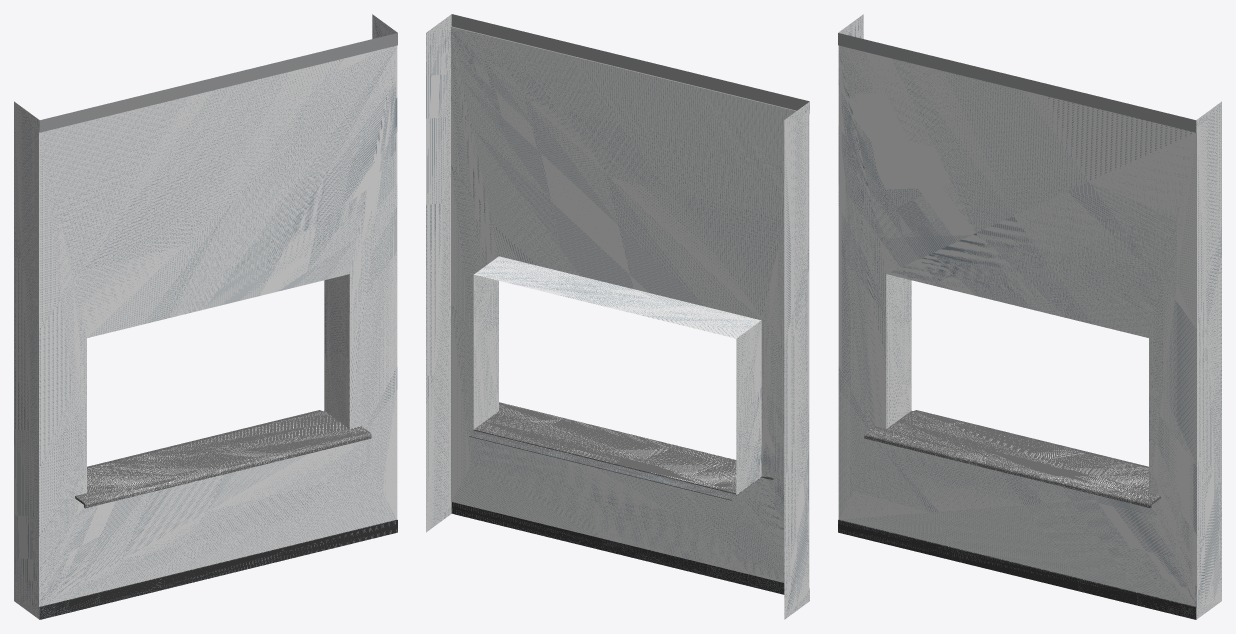
Rendered from WindowBlock_os_plinth_[300x400]_220x124x[090].dae.
The picture shows the model from 3 angles, left to right: view 1: azimuth 30°, elevation 25°; view 2: azimuth 150°, elevation 25°; view 3: azimuth 330°, elevation 25°; orthographic projection.
Visible parts, largest first — view 1: group_2 (×4), group_1 (×2); view 2: group_2 (×4), group_1 (×2); view 3: group_2 (×4), group_1 (×2).
Boxes of the visible parts, x1,y1,x2,y2 form: group_2 (×4): (14, 14, 397, 619); group_1 (×2): (75, 410, 371, 508); group_2 (×4): (426, 14, 809, 619); group_1 (×2): (469, 402, 773, 500); group_2 (×4): (838, 14, 1221, 619); group_1 (×2): (864, 410, 1160, 508).
Bounding box in the file's own units: 118 × 23.03 × 157.
